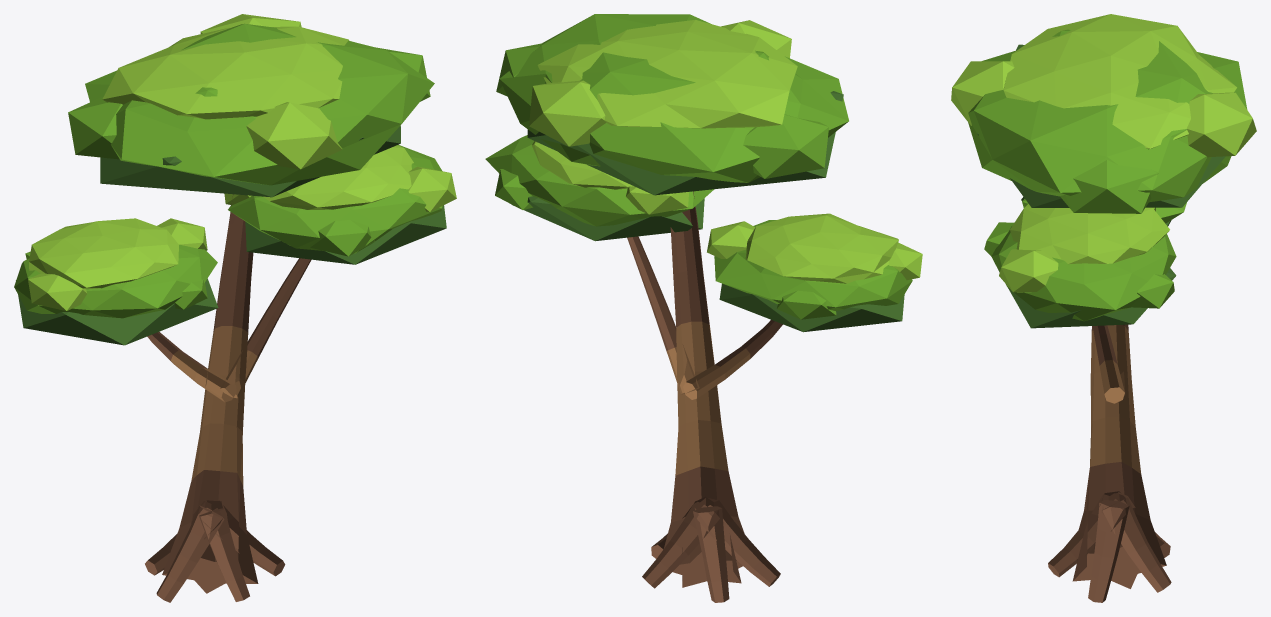
File: tree-0.glb
3 views of the same model, side by side, from view 1: azimuth 30°, elevation 25°; view 2: azimuth 150°, elevation 25°; view 3: azimuth 270°, elevation 25° (orthographic). The views are drawn at different scales.
Parts seen in each view (by area): view 1: canopy-0, trunk, canopy-1, canopy-2; view 2: canopy-0, trunk, canopy-1, canopy-2; view 3: canopy-0, canopy-2, trunk.
Part boxes in pixels (x1=…): canopy-0: x1=68, y1=14, x2=434, y2=197; trunk: x1=145, y1=194, x2=311, y2=602; canopy-1: x1=14, y1=218, x2=218, y2=345; canopy-2: x1=224, y1=144, x2=456, y2=264; canopy-0: x1=496, y1=14, x2=848, y2=195; trunk: x1=627, y1=191, x2=782, y2=602; canopy-1: x1=707, y1=213, x2=922, y2=332; canopy-2: x1=485, y1=135, x2=713, y2=241; canopy-0: x1=951, y1=14, x2=1256, y2=213; canopy-2: x1=984, y1=204, x2=1176, y2=328; trunk: x1=1048, y1=324, x2=1171, y2=602.
Bounding box in the file's own units: 6.51 × 7.74 × 4.01.
